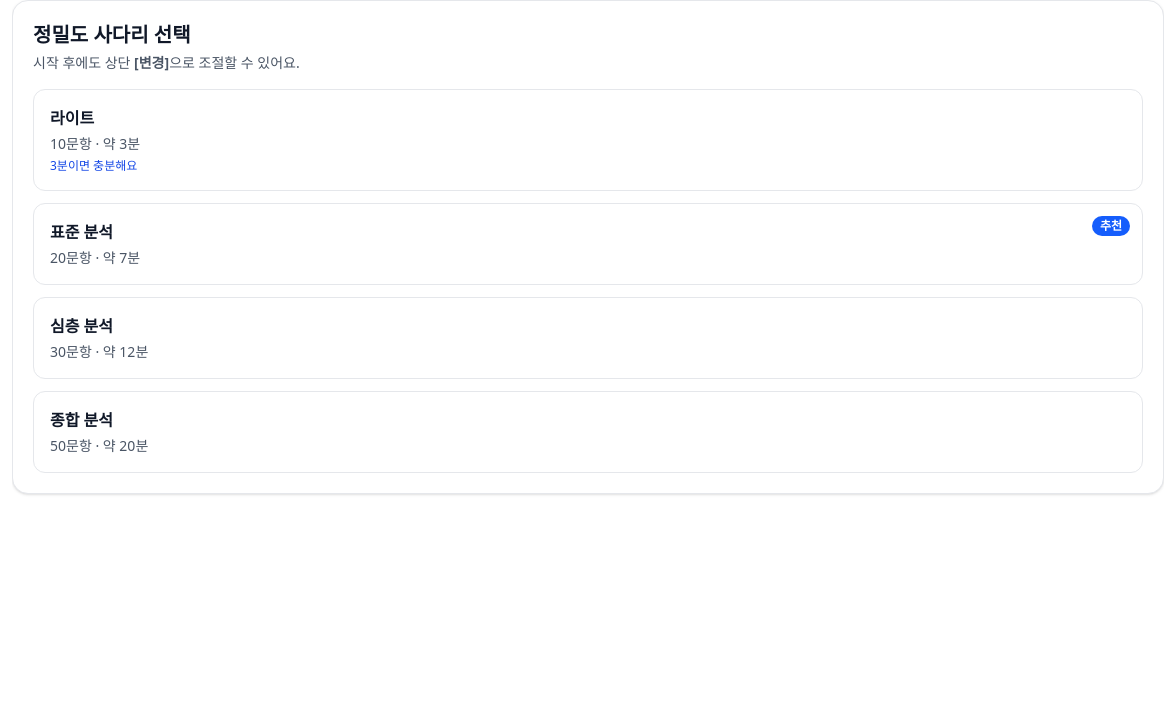
Test: DynamicOnboardingFlow › shows progress counter
This screenshot has width=1176, height=720.
Click the text "표준 분석" at (82,232), box top-left (50, 221), bottom-right (113, 243)
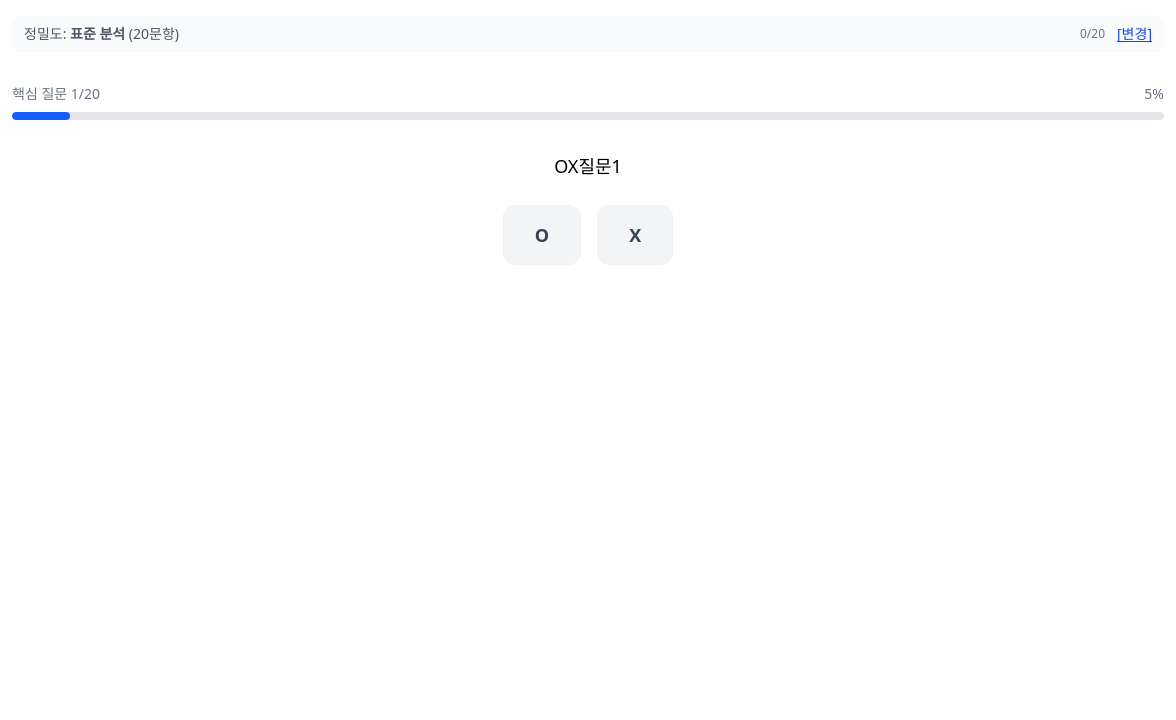
Expected: the text "0/20" is shown, top-left (1080, 26), bottom-right (1105, 42)
